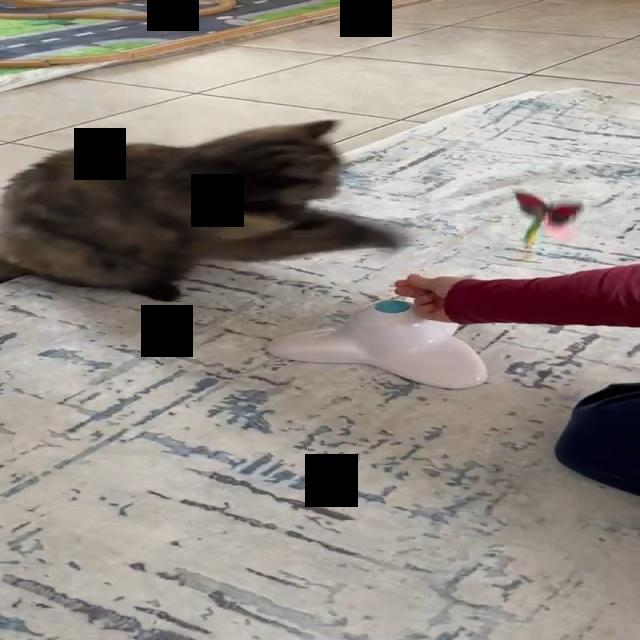authorized: (0, 118, 408, 302)
